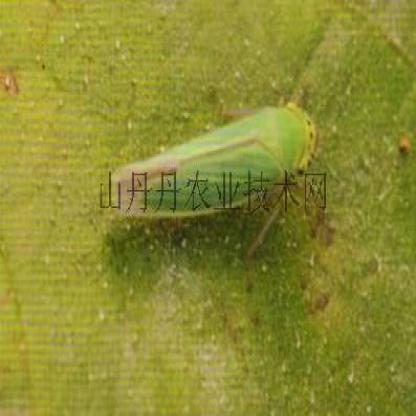Green-Leafhopper: (106, 98, 316, 254)
